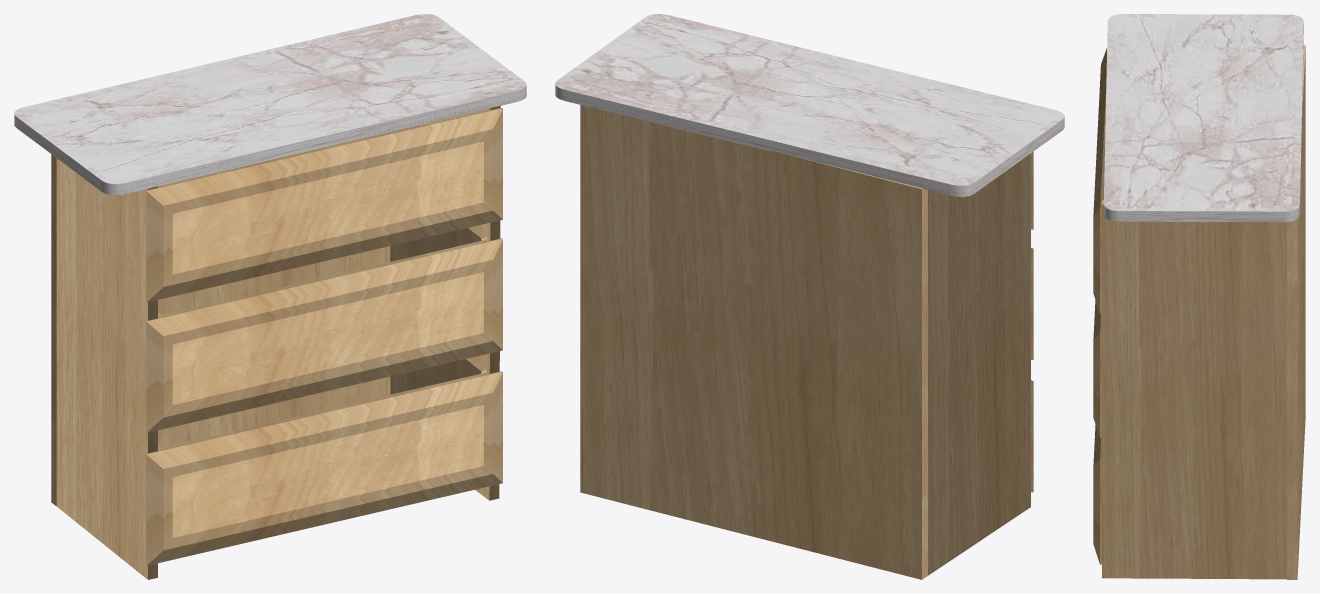
File: cabinet_small 1.FBX
3 renders of one model, left to right at view 1: azimuth 30°, elevation 25°; view 2: azimuth 150°, elevation 25°; view 3: azimuth 270°, elevation 25°, orthographic. The views are drawn at different scales.
Visible parts, largest first — view 1: Box001, Box004; view 2: Box001, Box004; view 3: Box001, Box004.
Part boxes in pixels (x1,y1,x2,y2): Box001: (51,104,502,579); Box004: (14,14,526,195); Box001: (580,105,1033,579); Box004: (555,14,1064,196); Box001: (1093,45,1305,579); Box004: (1103,14,1303,222).
Size of the model in its own units: 199 by 182 by 90.87.
Materials: 2 (2 with a texture image).
